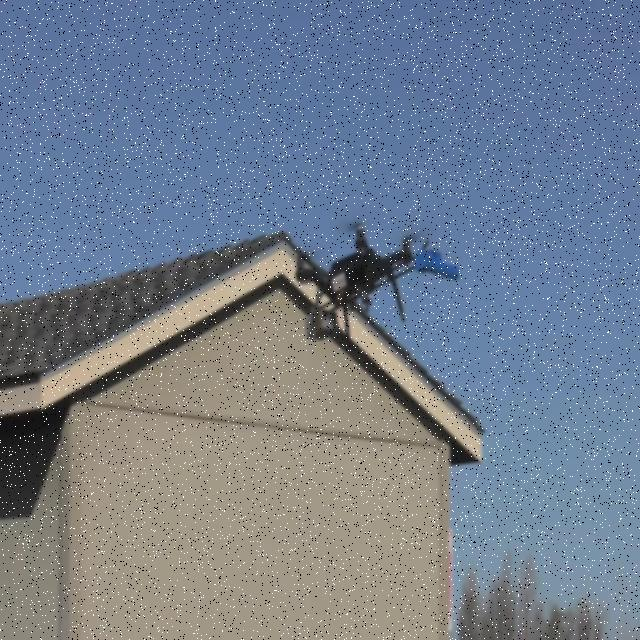UAV: (295, 223, 459, 341)
